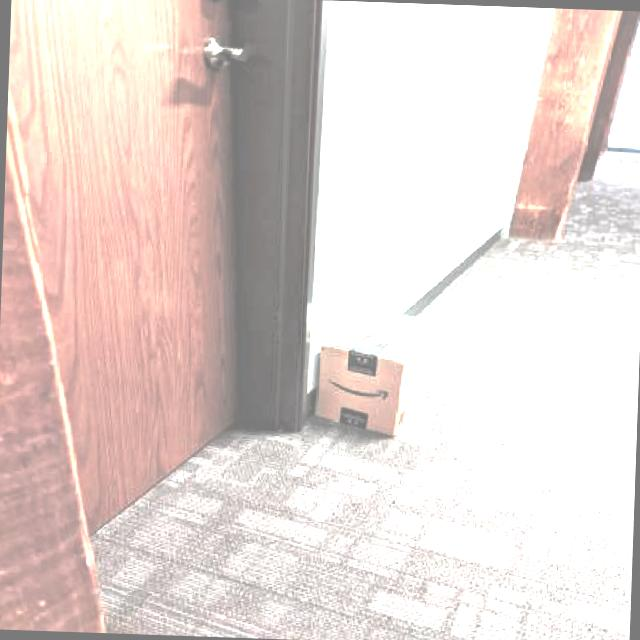Box: (310, 302, 456, 440)
